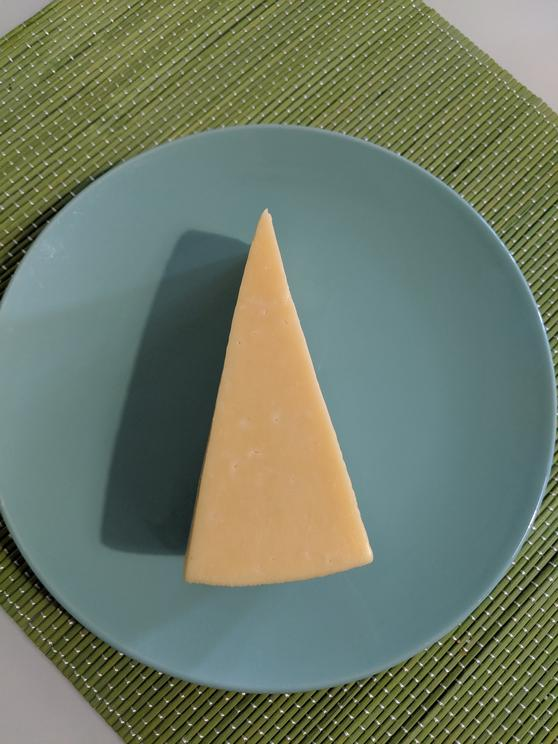cheese: (189, 208, 377, 590)
